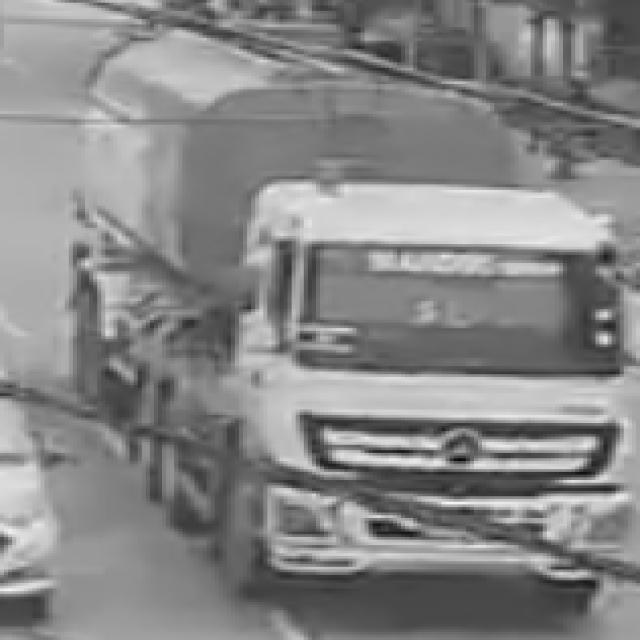Truck: (88, 10, 640, 616)
